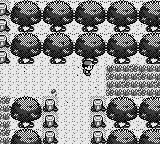captura: (106, 65, 159, 96), (1, 97, 10, 143)
main: (82, 61, 95, 75)
no-caminable: (8, 1, 160, 65), (108, 96, 160, 143), (11, 96, 41, 143), (42, 95, 58, 143), (90, 96, 106, 143), (1, 0, 10, 64)
